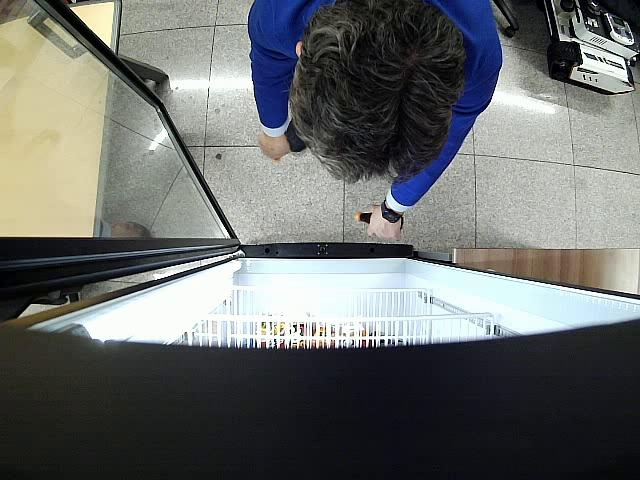00_hand: (364, 203, 404, 243), (257, 132, 291, 159)
17_vita500: (354, 212, 372, 223)
